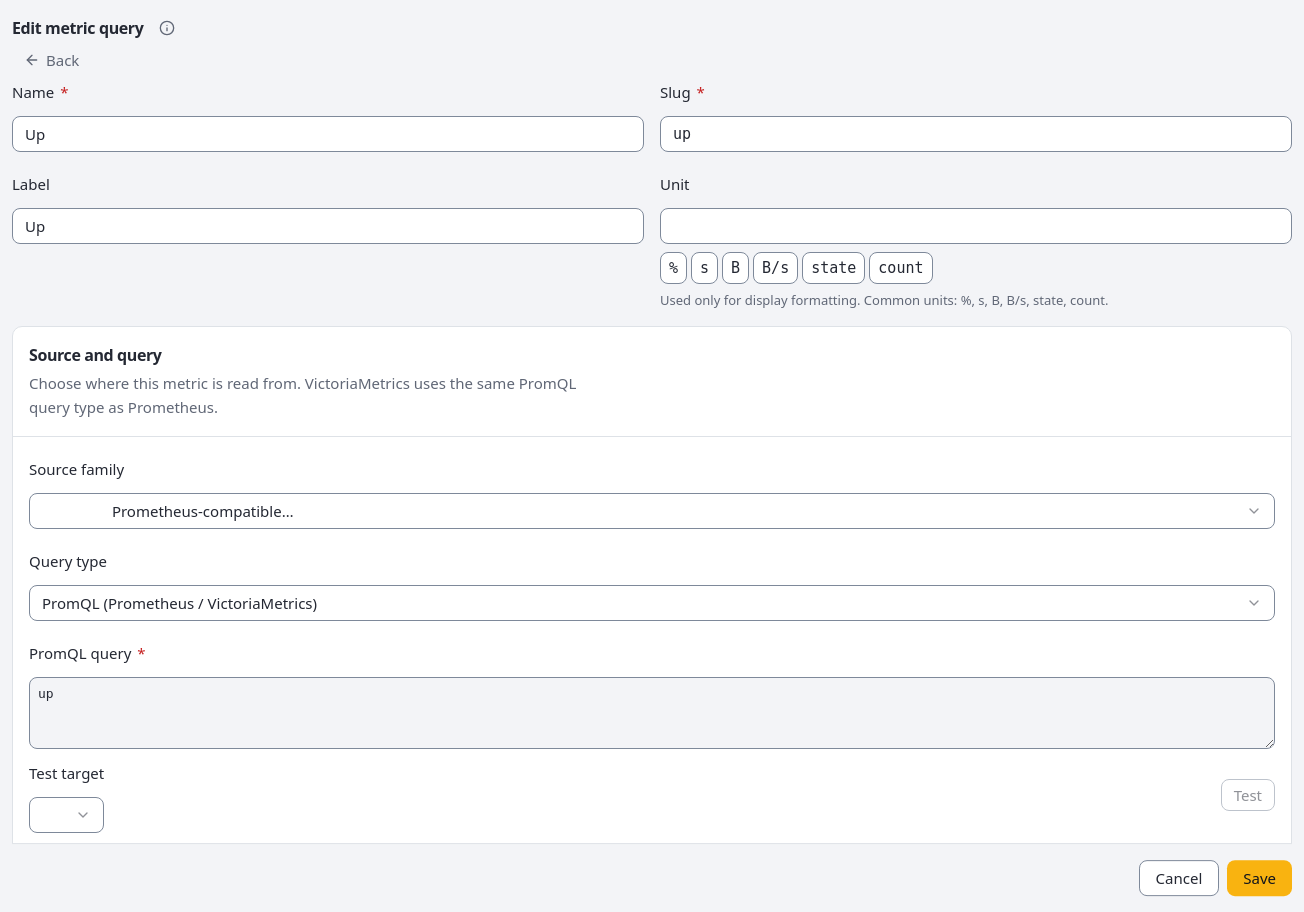
Test: observability routed entity pages › updates a metric query from its edit page
Expected: the heading "Edit metric query" is shown, x1=12 y1=16 x2=143 y2=40
Replace the text in the text box with placeholder "up{piping_host_name=\"$host\",job=\"node\"}" with "up == 0" at (652, 713), box x1=29 y1=677 x2=1275 y2=749
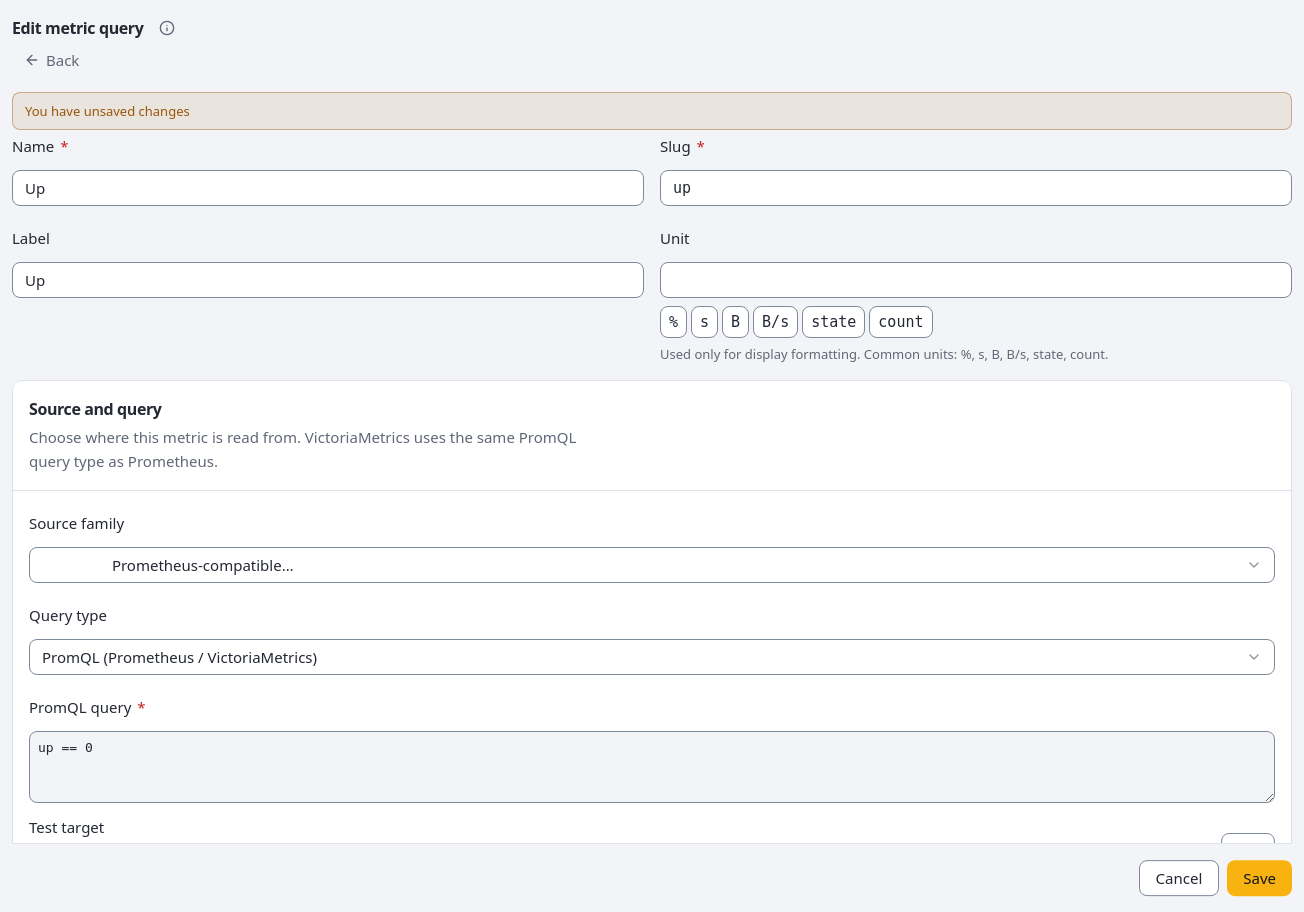
Click the button "Save" at (1260, 878), box x1=1227 y1=860 x2=1292 y2=896
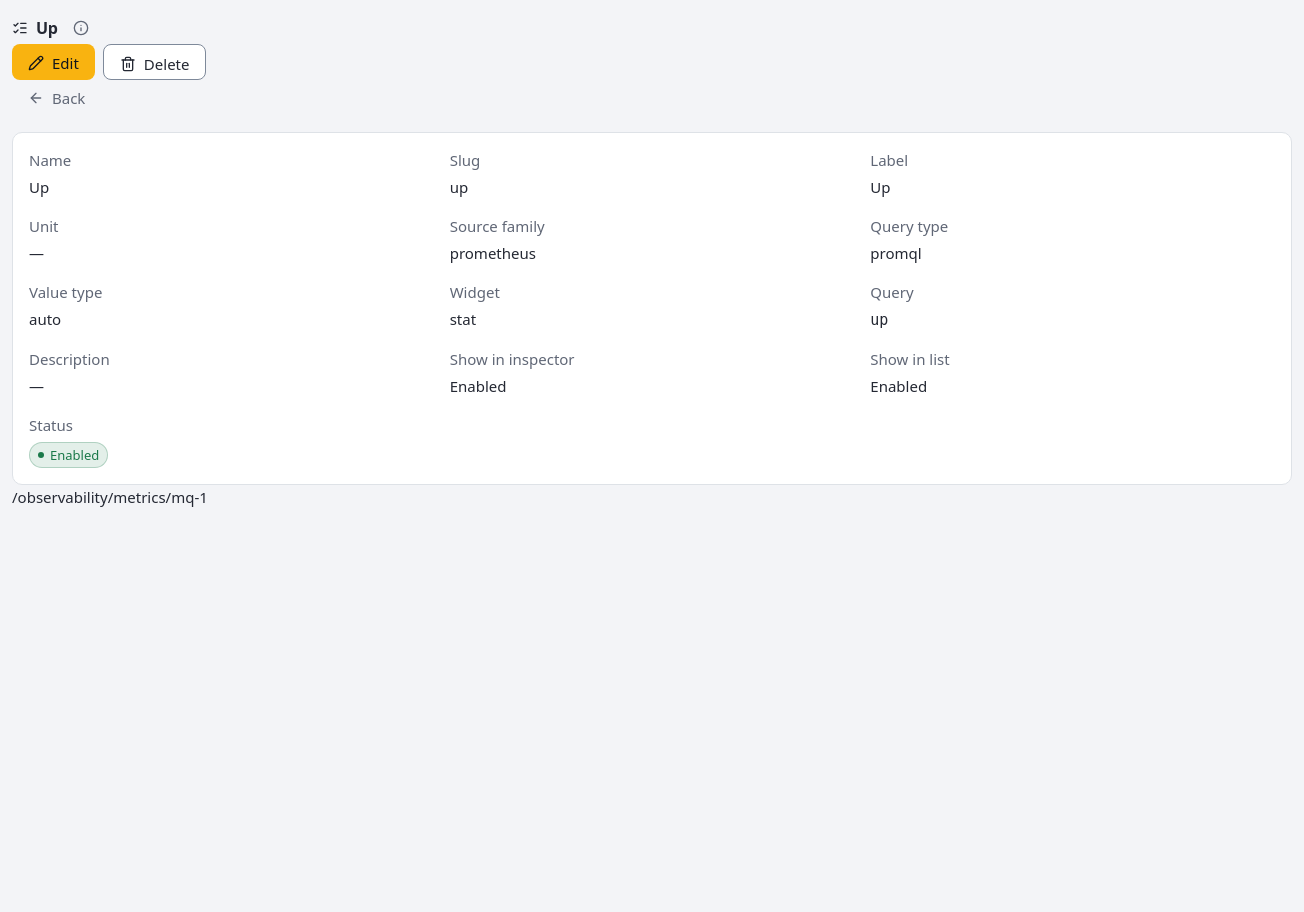
Now the text with test id "location" reads "/observability/metrics/mq-1", box x1=12 y1=487 x2=208 y2=507
